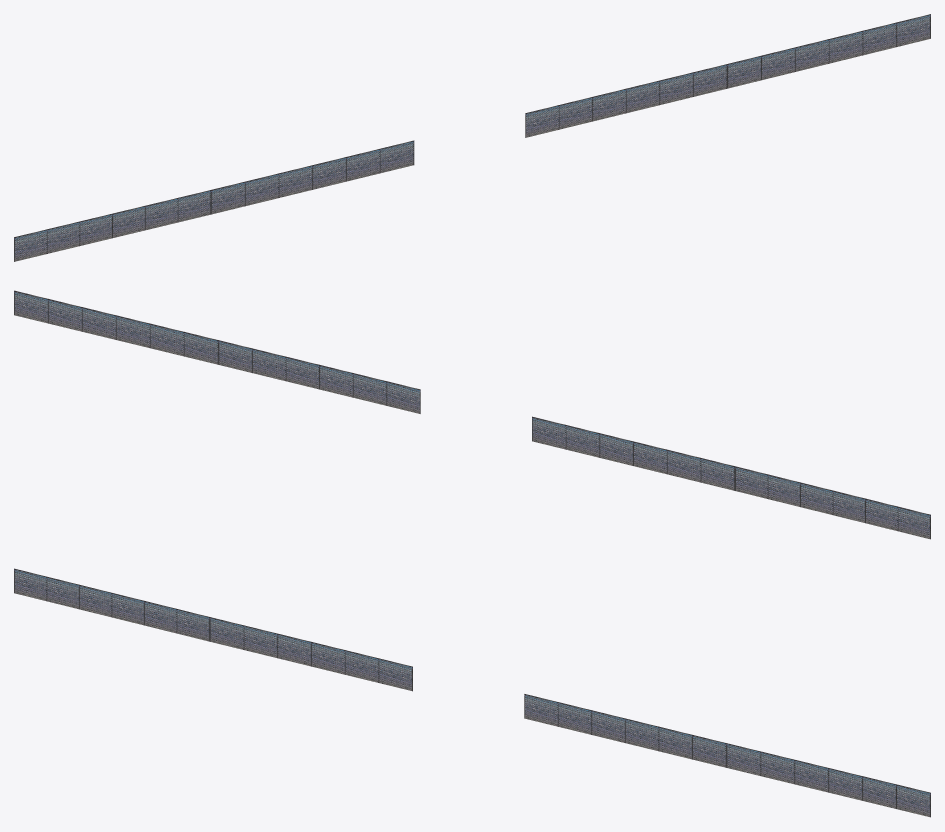
Rendered from FENCE05.glb.
3 views of the same model, one above another, from view 1: azimuth 30°, elevation 25°; view 2: azimuth 150°, elevation 25°; view 3: azimuth 330°, elevation 25° (orthographic).
Visible parts, largest first — view 1: FENCE05; view 2: FENCE05; view 3: FENCE05.
Part boxes in pixels (x1,y1,x2,y2): FENCE05: [14, 14, 930, 261]; FENCE05: [14, 290, 930, 539]; FENCE05: [14, 568, 930, 817].
Size of the model in its own units: 12960 by 335 by 20.97.
Materials: 1 (1 with a texture image).
